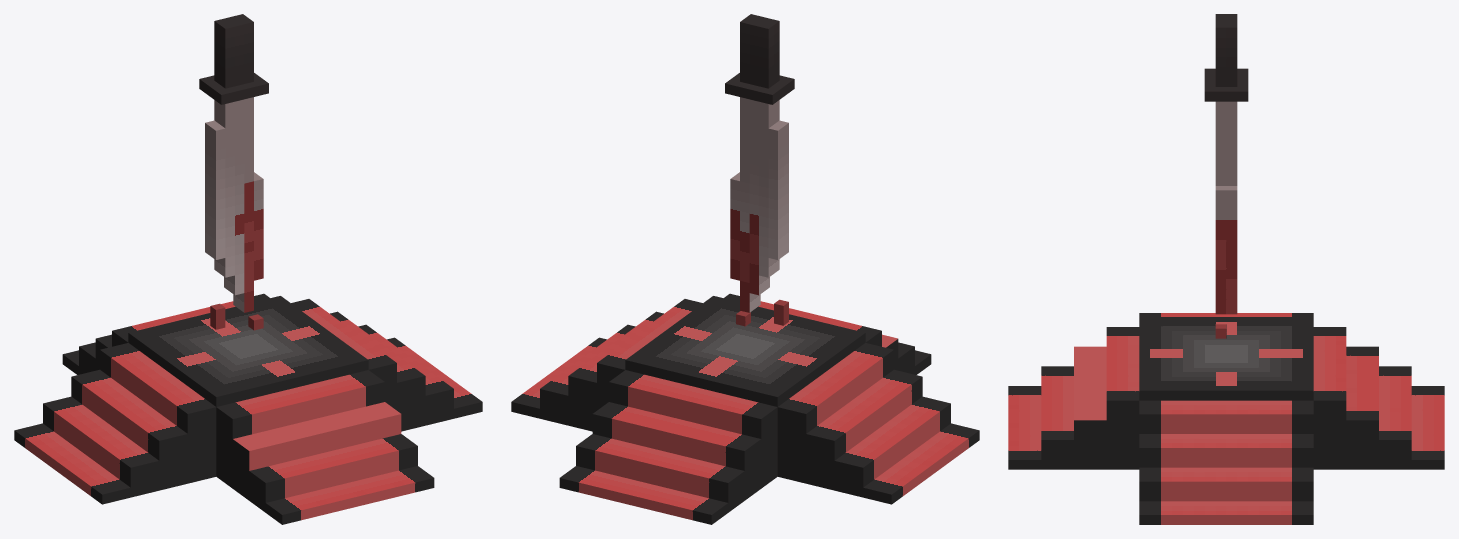
File: knife.glb
3 renders of one model, left to right at view 1: azimuth 30°, elevation 25°; view 2: azimuth 150°, elevation 25°; view 3: azimuth 270°, elevation 25°, orthographic.
Visible parts, largest first — view 1: cube (×21); view 2: cube (×21); view 3: cube (×19).
Boxes of the visible parts, <box> form: cube (×21): <box>14,14,482,524</box>; cube (×21): <box>511,14,979,524</box>; cube (×19): <box>1008,14,1444,524</box>.
Size of the model in its own units: 2.5 by 2.56 by 2.5.
1 material, 1 textured.
